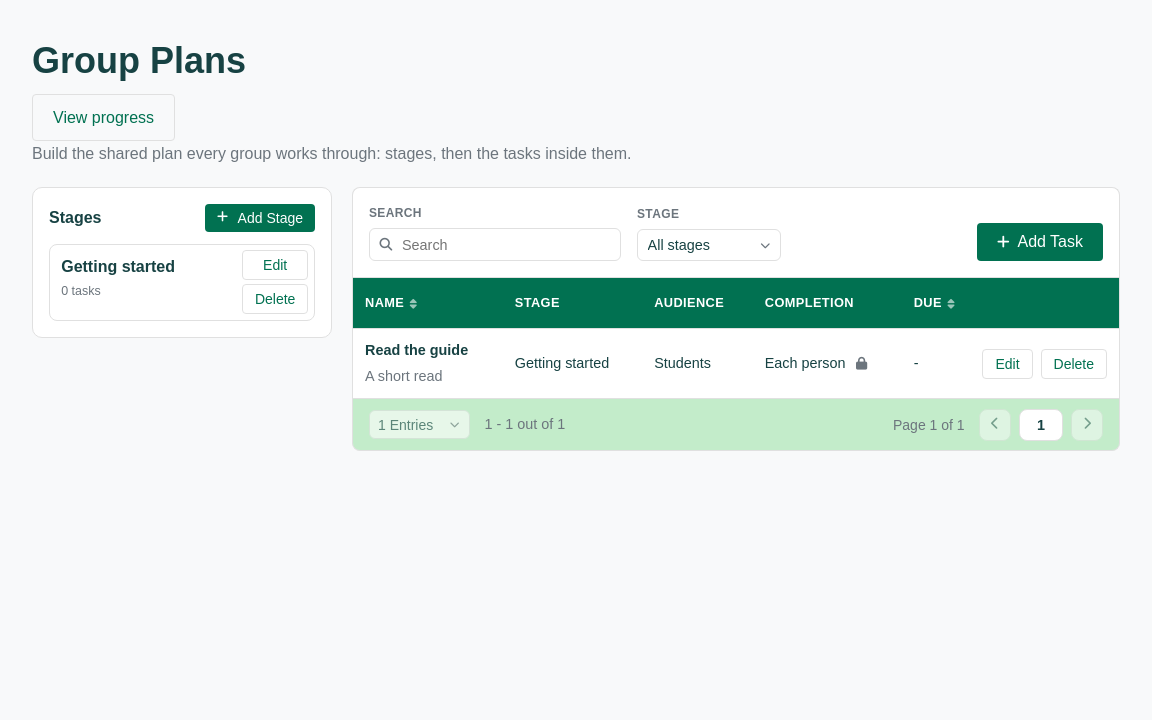
Scenario: AdminPlanTasksPage › locks audience and completion mode when the task has completions
Click the button "Edit" in the row of "Read the guide". click: (1007, 364)
box: [982,349,1032,379]
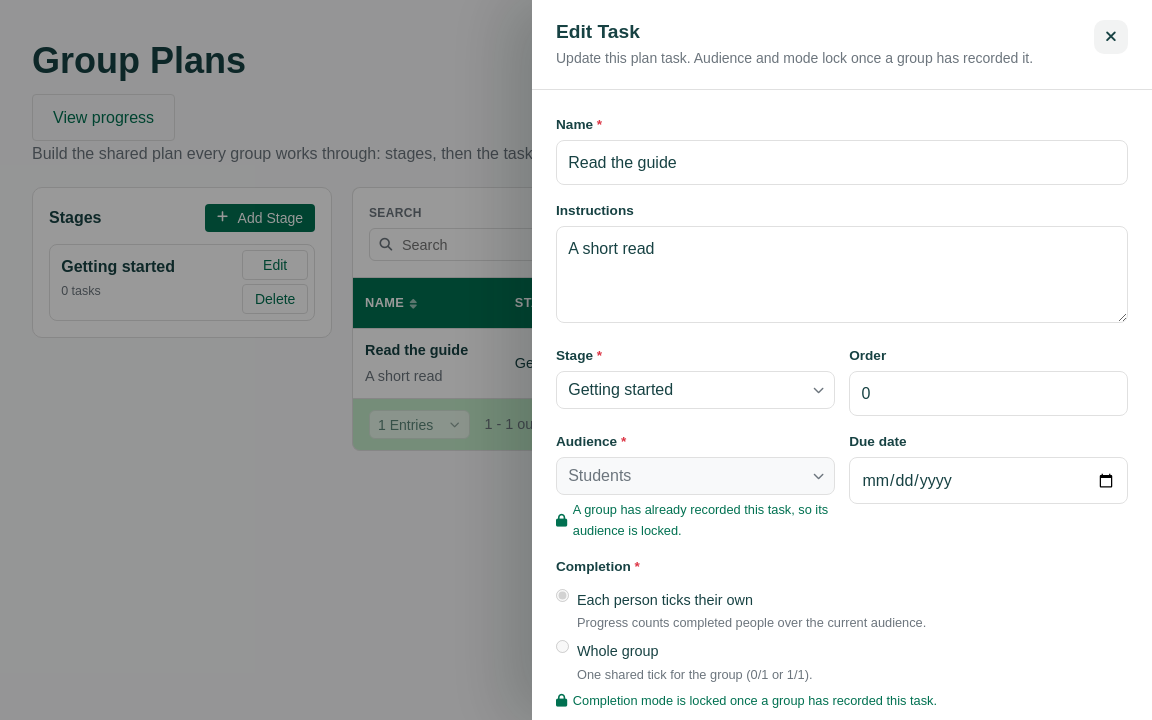
Expected: the dropdown labelled "Audience *" is disabled, [568,467,823,485]
Expected: the 1st radio button is shown, [556,589,569,602]
Expected: the text "locked" is shown, [573,502,828,538]
